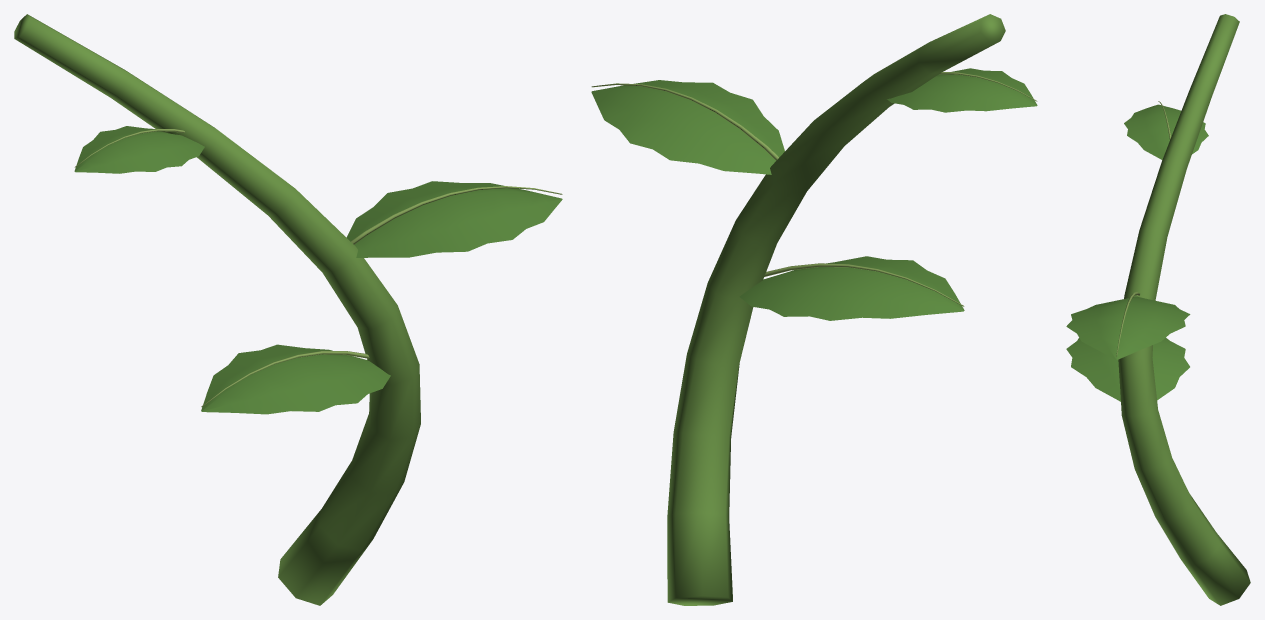
The model's file is sunflower-test-leaves-1.glb.
3 renders of one model, left to right at view 1: azimuth 30°, elevation 25°; view 2: azimuth 150°, elevation 25°; view 3: azimuth 270°, elevation 25°, orthographic. The views are drawn at different scales.
Parts seen in each view (by area): view 1: Curved tapered stem; view 2: Curved tapered stem; view 3: Curved tapered stem.
Boxes of the visible parts, x1,y1,x2,y2 form: Curved tapered stem: (14, 14, 562, 605); Curved tapered stem: (591, 14, 1037, 605); Curved tapered stem: (1066, 14, 1250, 605).
Bounding box in the file's own units: 0.1502 × 0.1974 × 0.0683.
